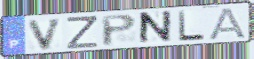A: (208, 7, 249, 41)
L: (176, 10, 207, 43)
N: (137, 9, 174, 47)
P: (100, 13, 138, 48)
V: (27, 16, 65, 51)
Z: (66, 15, 100, 50)
